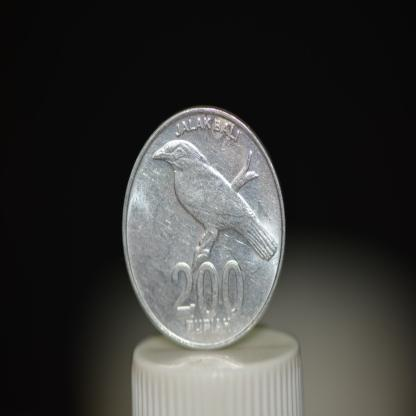coin_200_e2003: (121, 107, 288, 355)
